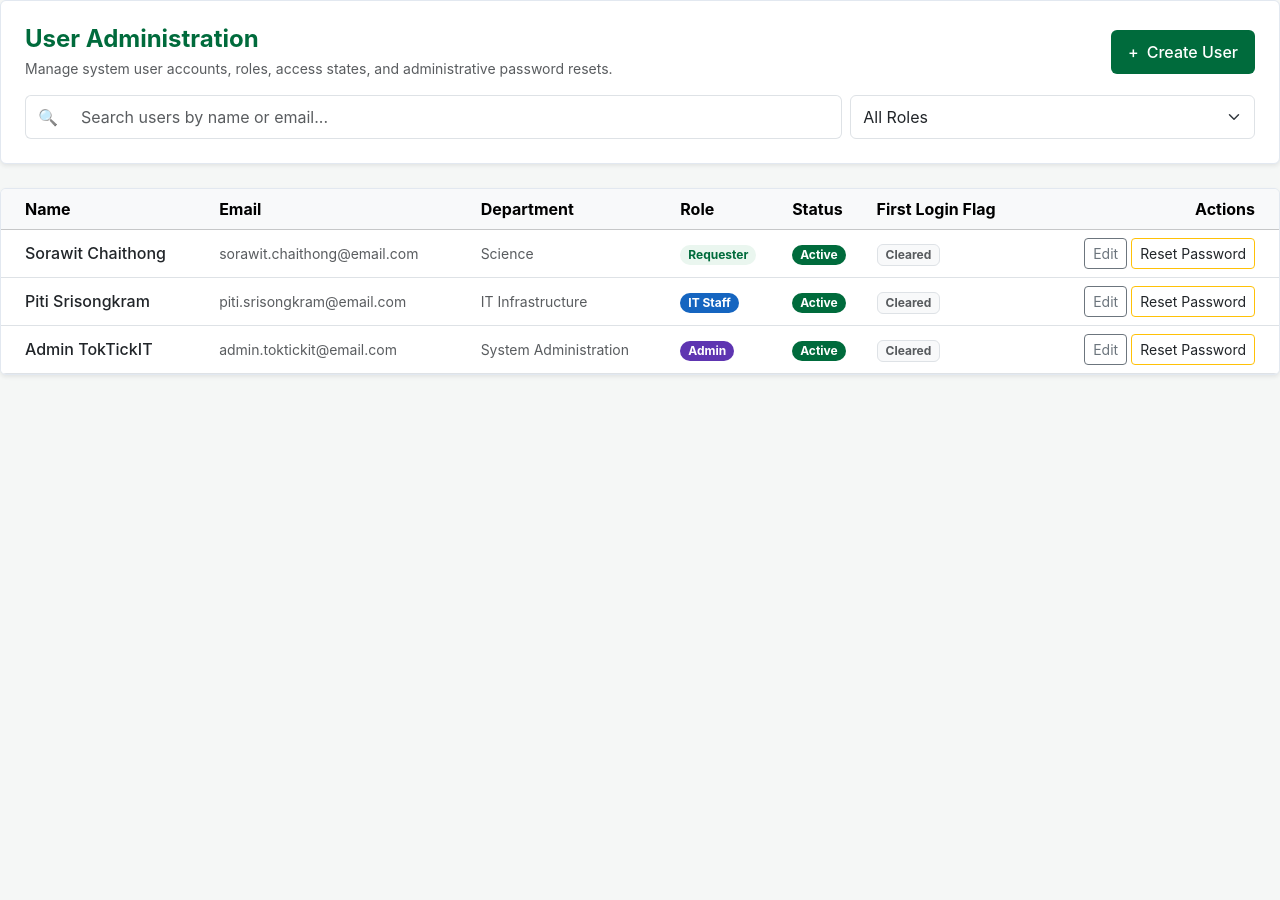
Test: UserManagement Component (UI-07 / AC-20..22, BR-16..21) › UI-07 / AC-20: opens Create User modal, fills form, and creates new user
Click the button with test id "btn-open-create-user".
click(1183, 52)  # box [1111, 30, 1255, 74]
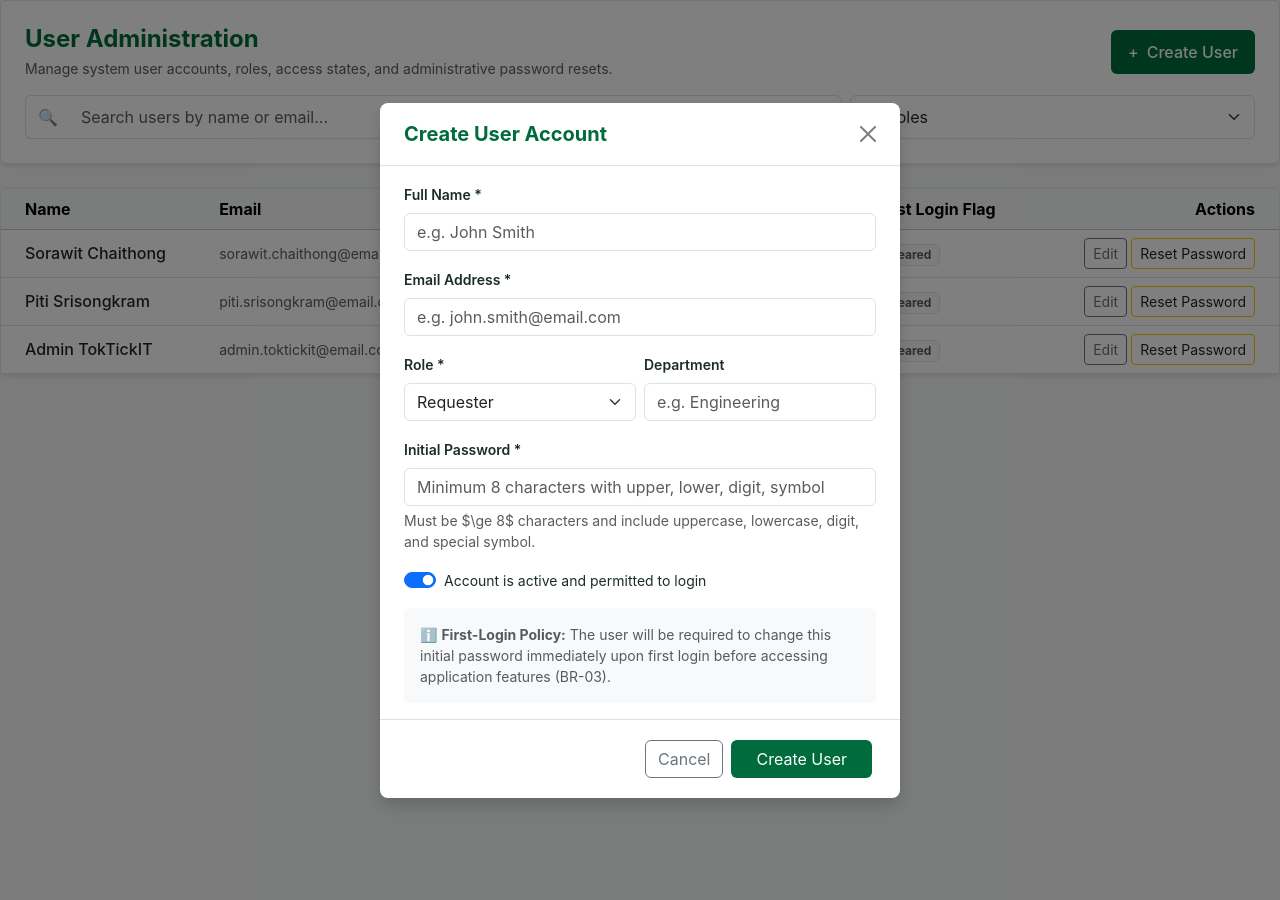
Now the heading "Create User Account" is shown, box [404, 118, 607, 148]
Now the field with test id "create-user-fullname" is shown
Type "New Staff Member" into the field with test id "create-user-fullname".
click(640, 232); type("New Staff Member")  # box [404, 212, 876, 250]
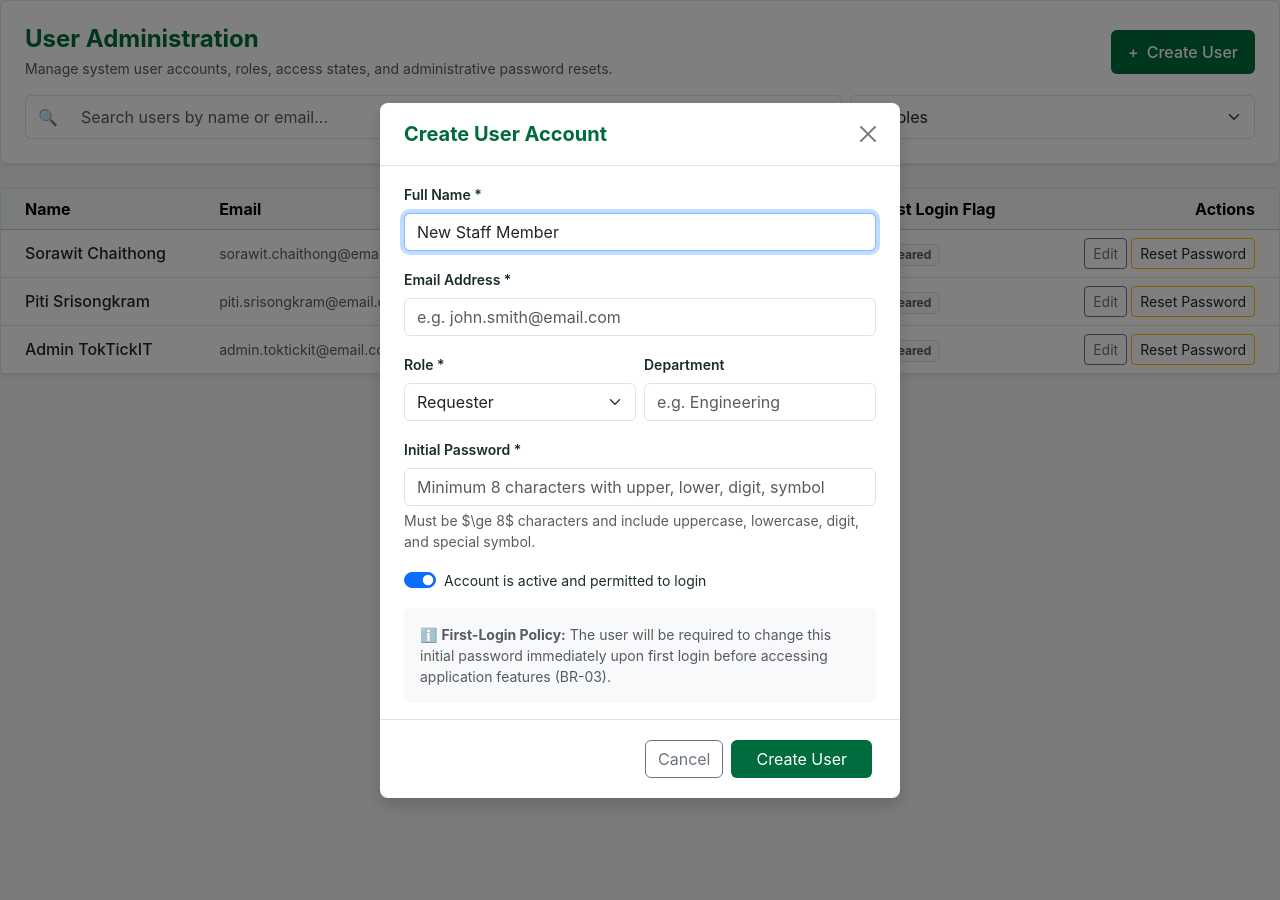
Type "newstaff@email.com" into the field with test id "create-user-email".
click(640, 316); type("newstaff@email.com")  # box [404, 298, 876, 336]
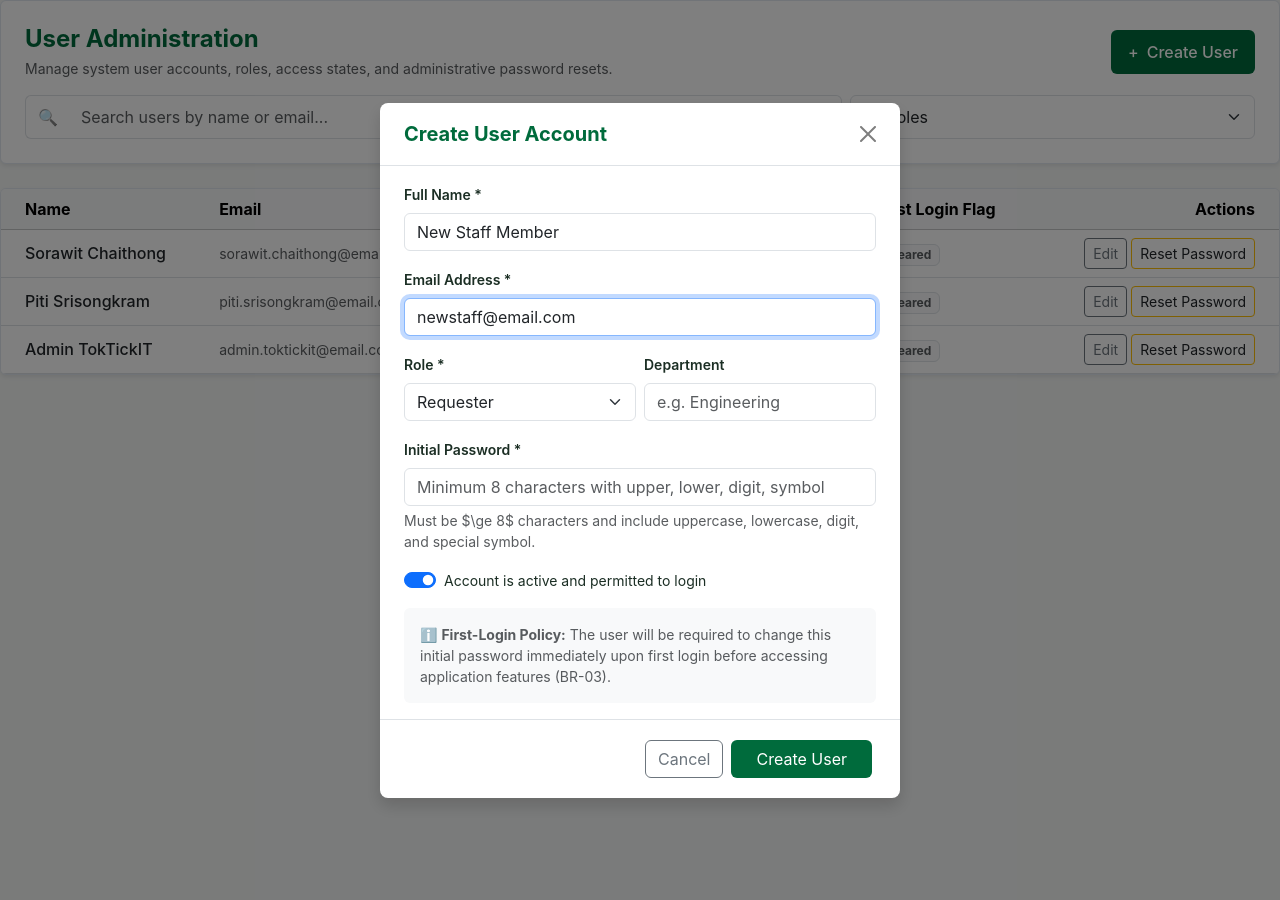
Select "IT Staff" in the dropdown with test id "create-user-role" at (520, 402), box [404, 382, 636, 420]
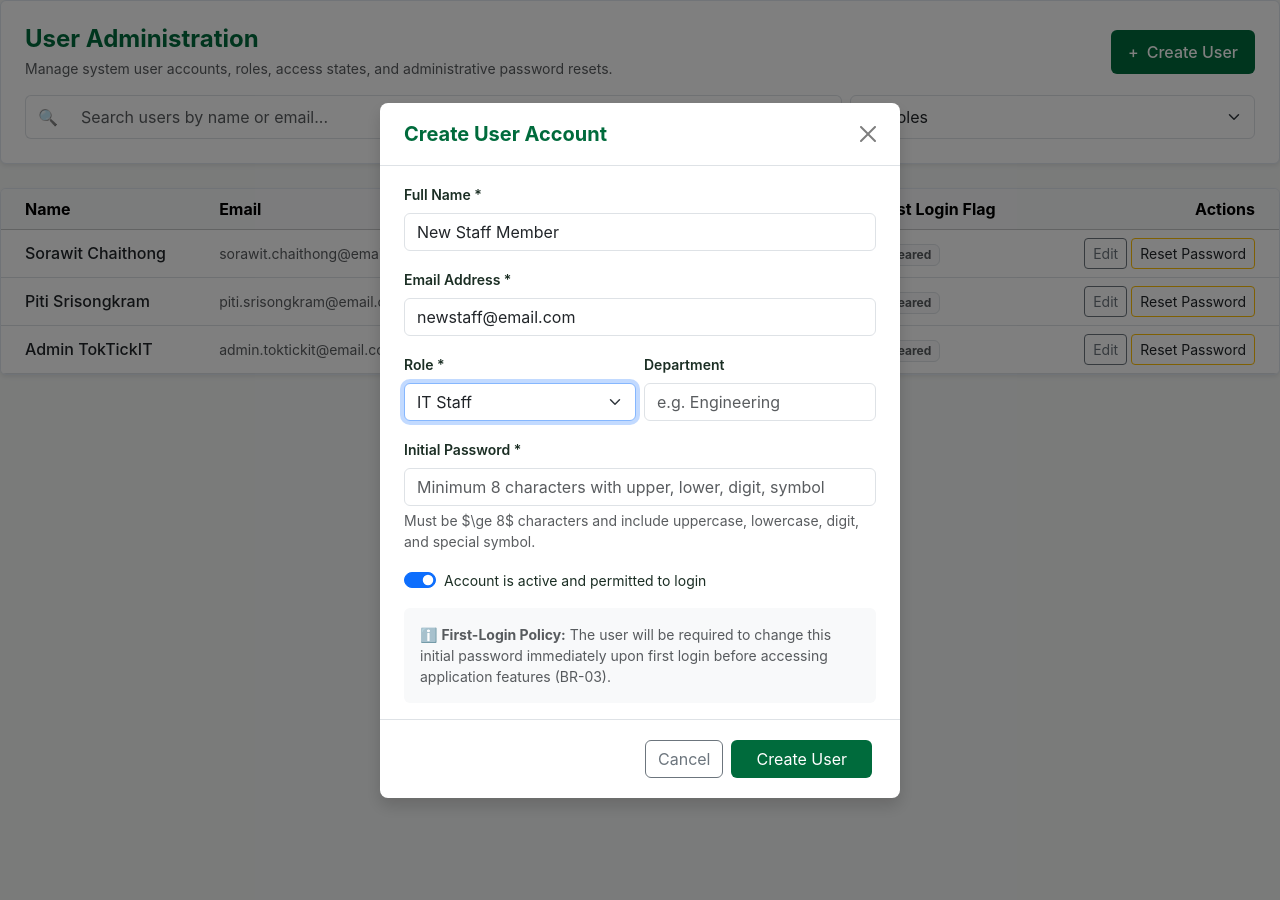
Type "InitialPass@2026" into the password field with test id "create-user-password".
click(640, 486); type("InitialPass@2026")  # box [404, 468, 876, 506]
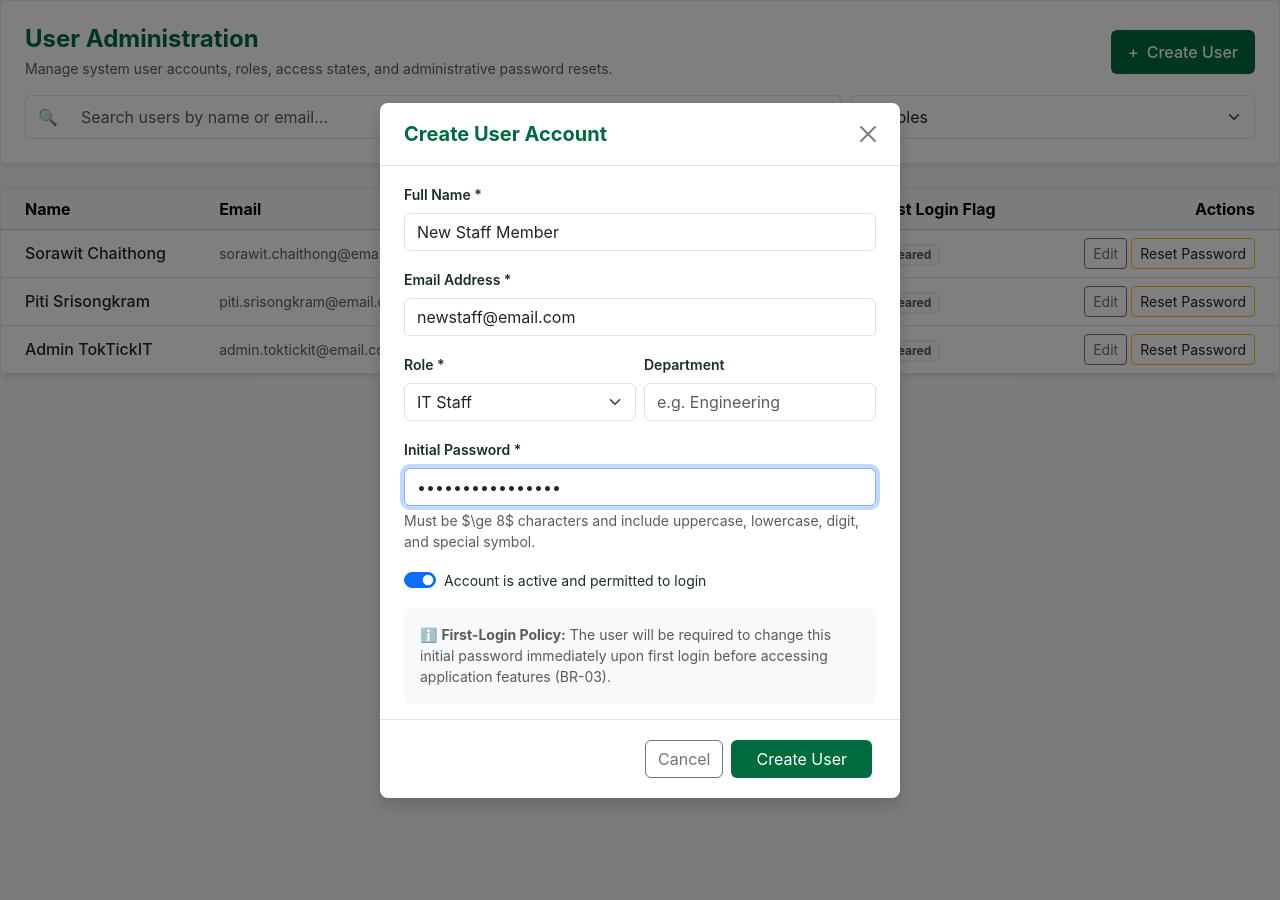
Click the button with test id "btn-submit-create-user".
click(802, 758)  # box [732, 740, 872, 778]
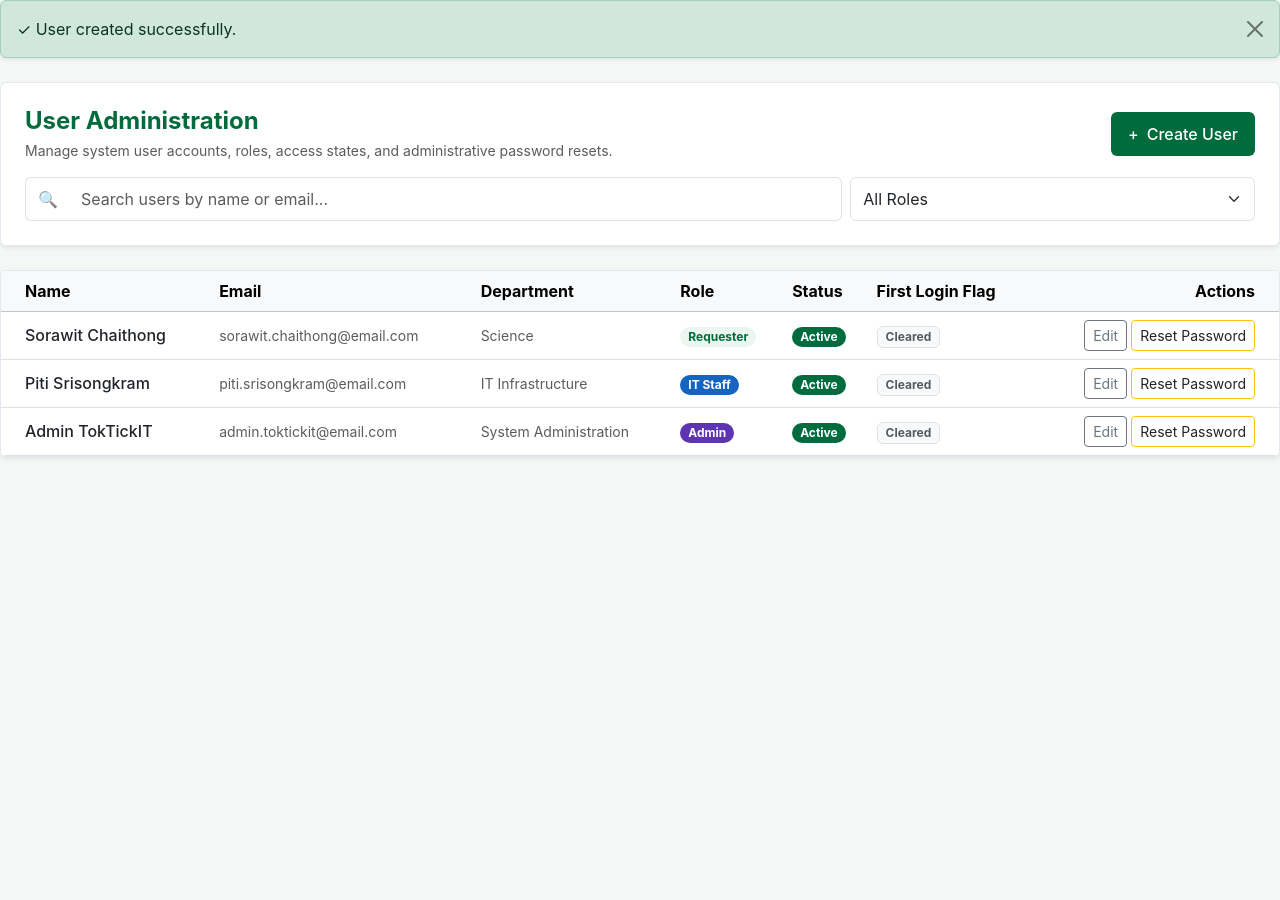
Now the message with test id "admin-success-alert" shows "User created successfully.", box [36, 19, 236, 39]
